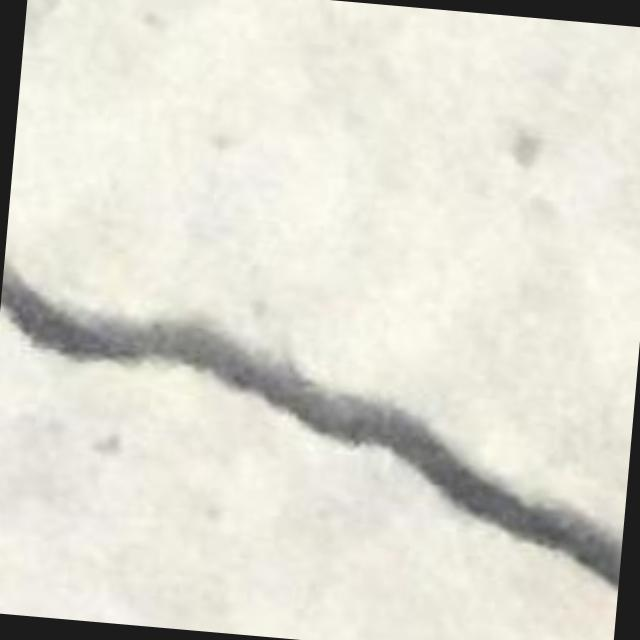crack: (0, 264, 621, 588)
